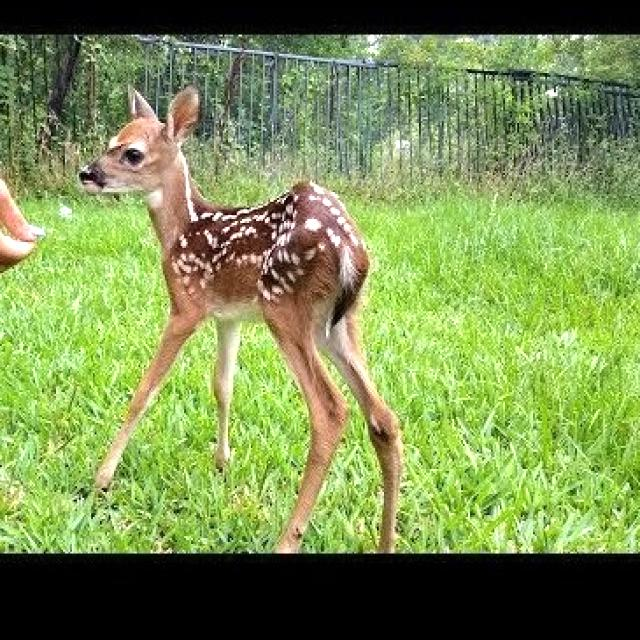deer: (75, 76, 242, 269)
